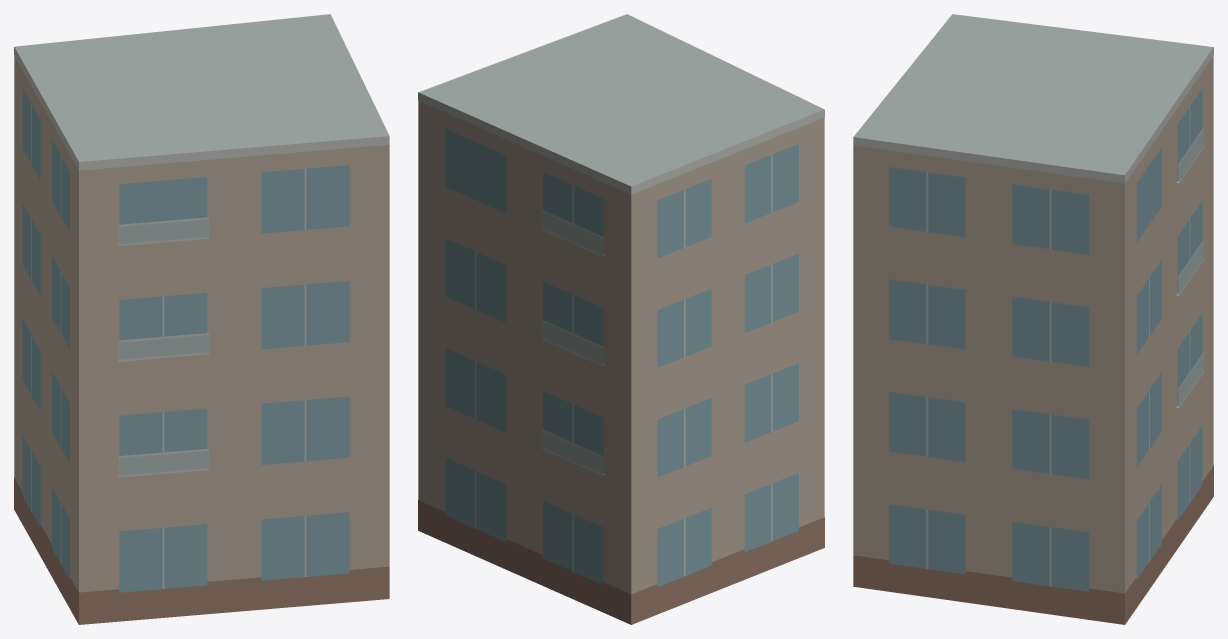
File: survey-upis-33042253.glb
The picture shows the model from 3 angles, left to right: view 1: azimuth 30°, elevation 25°; view 2: azimuth 150°, elevation 25°; view 3: azimuth 270°, elevation 25°; orthographic projection. The views are drawn at different scales.
Visible parts, largest first — view 1: survey-upis-33042253.tmp; view 2: survey-upis-33042253.tmp; view 3: survey-upis-33042253.tmp.
Part boxes in pixels (x1,y1,x2,y2): survey-upis-33042253.tmp: (14,14,389,624); survey-upis-33042253.tmp: (418,14,824,624); survey-upis-33042253.tmp: (853,14,1213,624).
Size of the model in its own units: 10.17 by 13.2 by 9.6.
